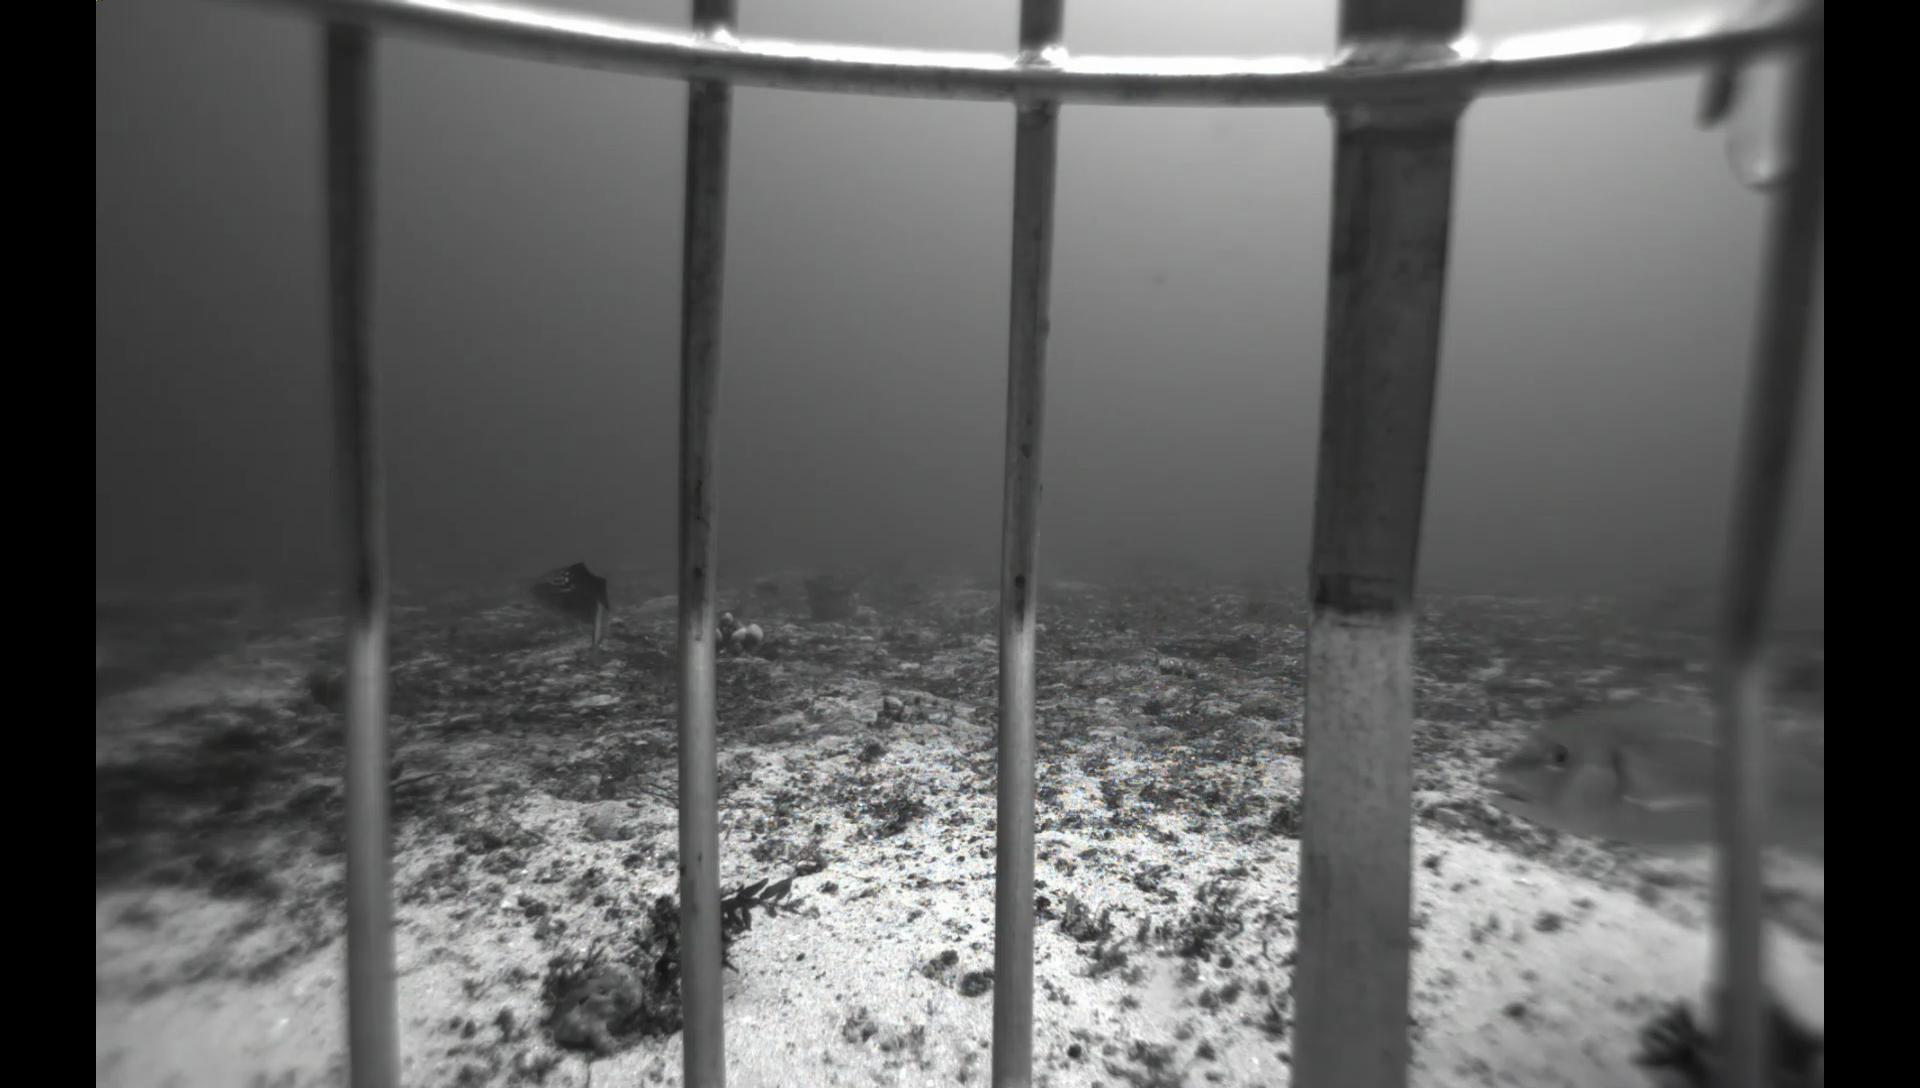CHAETODONOCELLATUS-170260307: (848, 555, 872, 576)
EPINEPHELUSMORIO-170021211: (517, 559, 622, 654)
PAGRUSPAGRUS-170212302: (1478, 690, 1824, 870)
PRISTIGENYSALTA-170050401: (314, 665, 409, 717)
